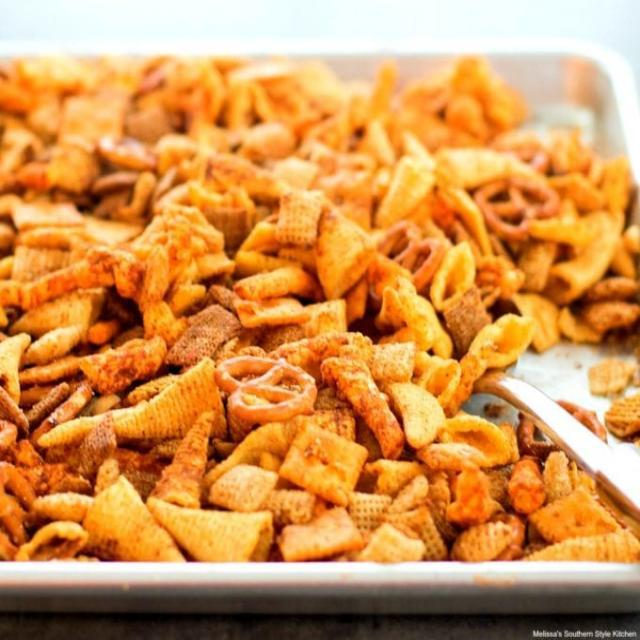Salatini: (11, 60, 627, 561)
